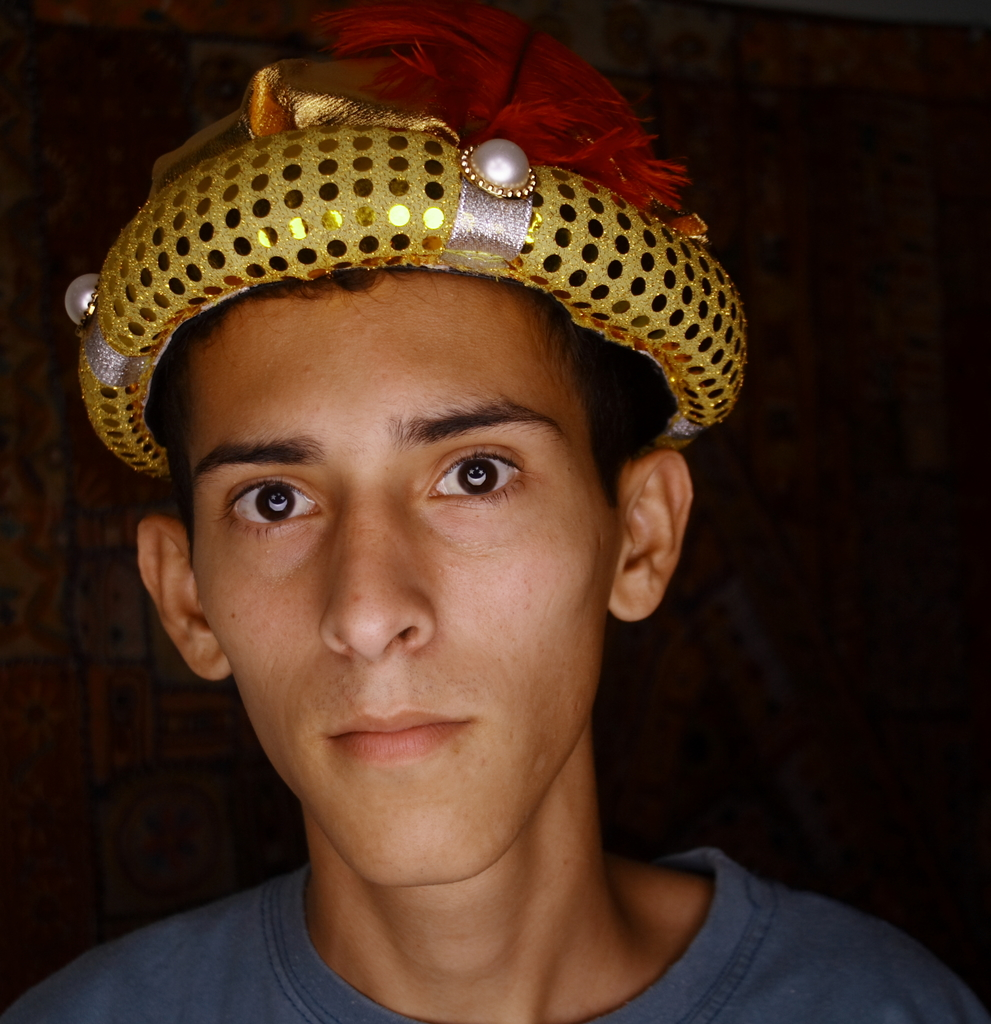Person: (0, 0, 990, 1023)
